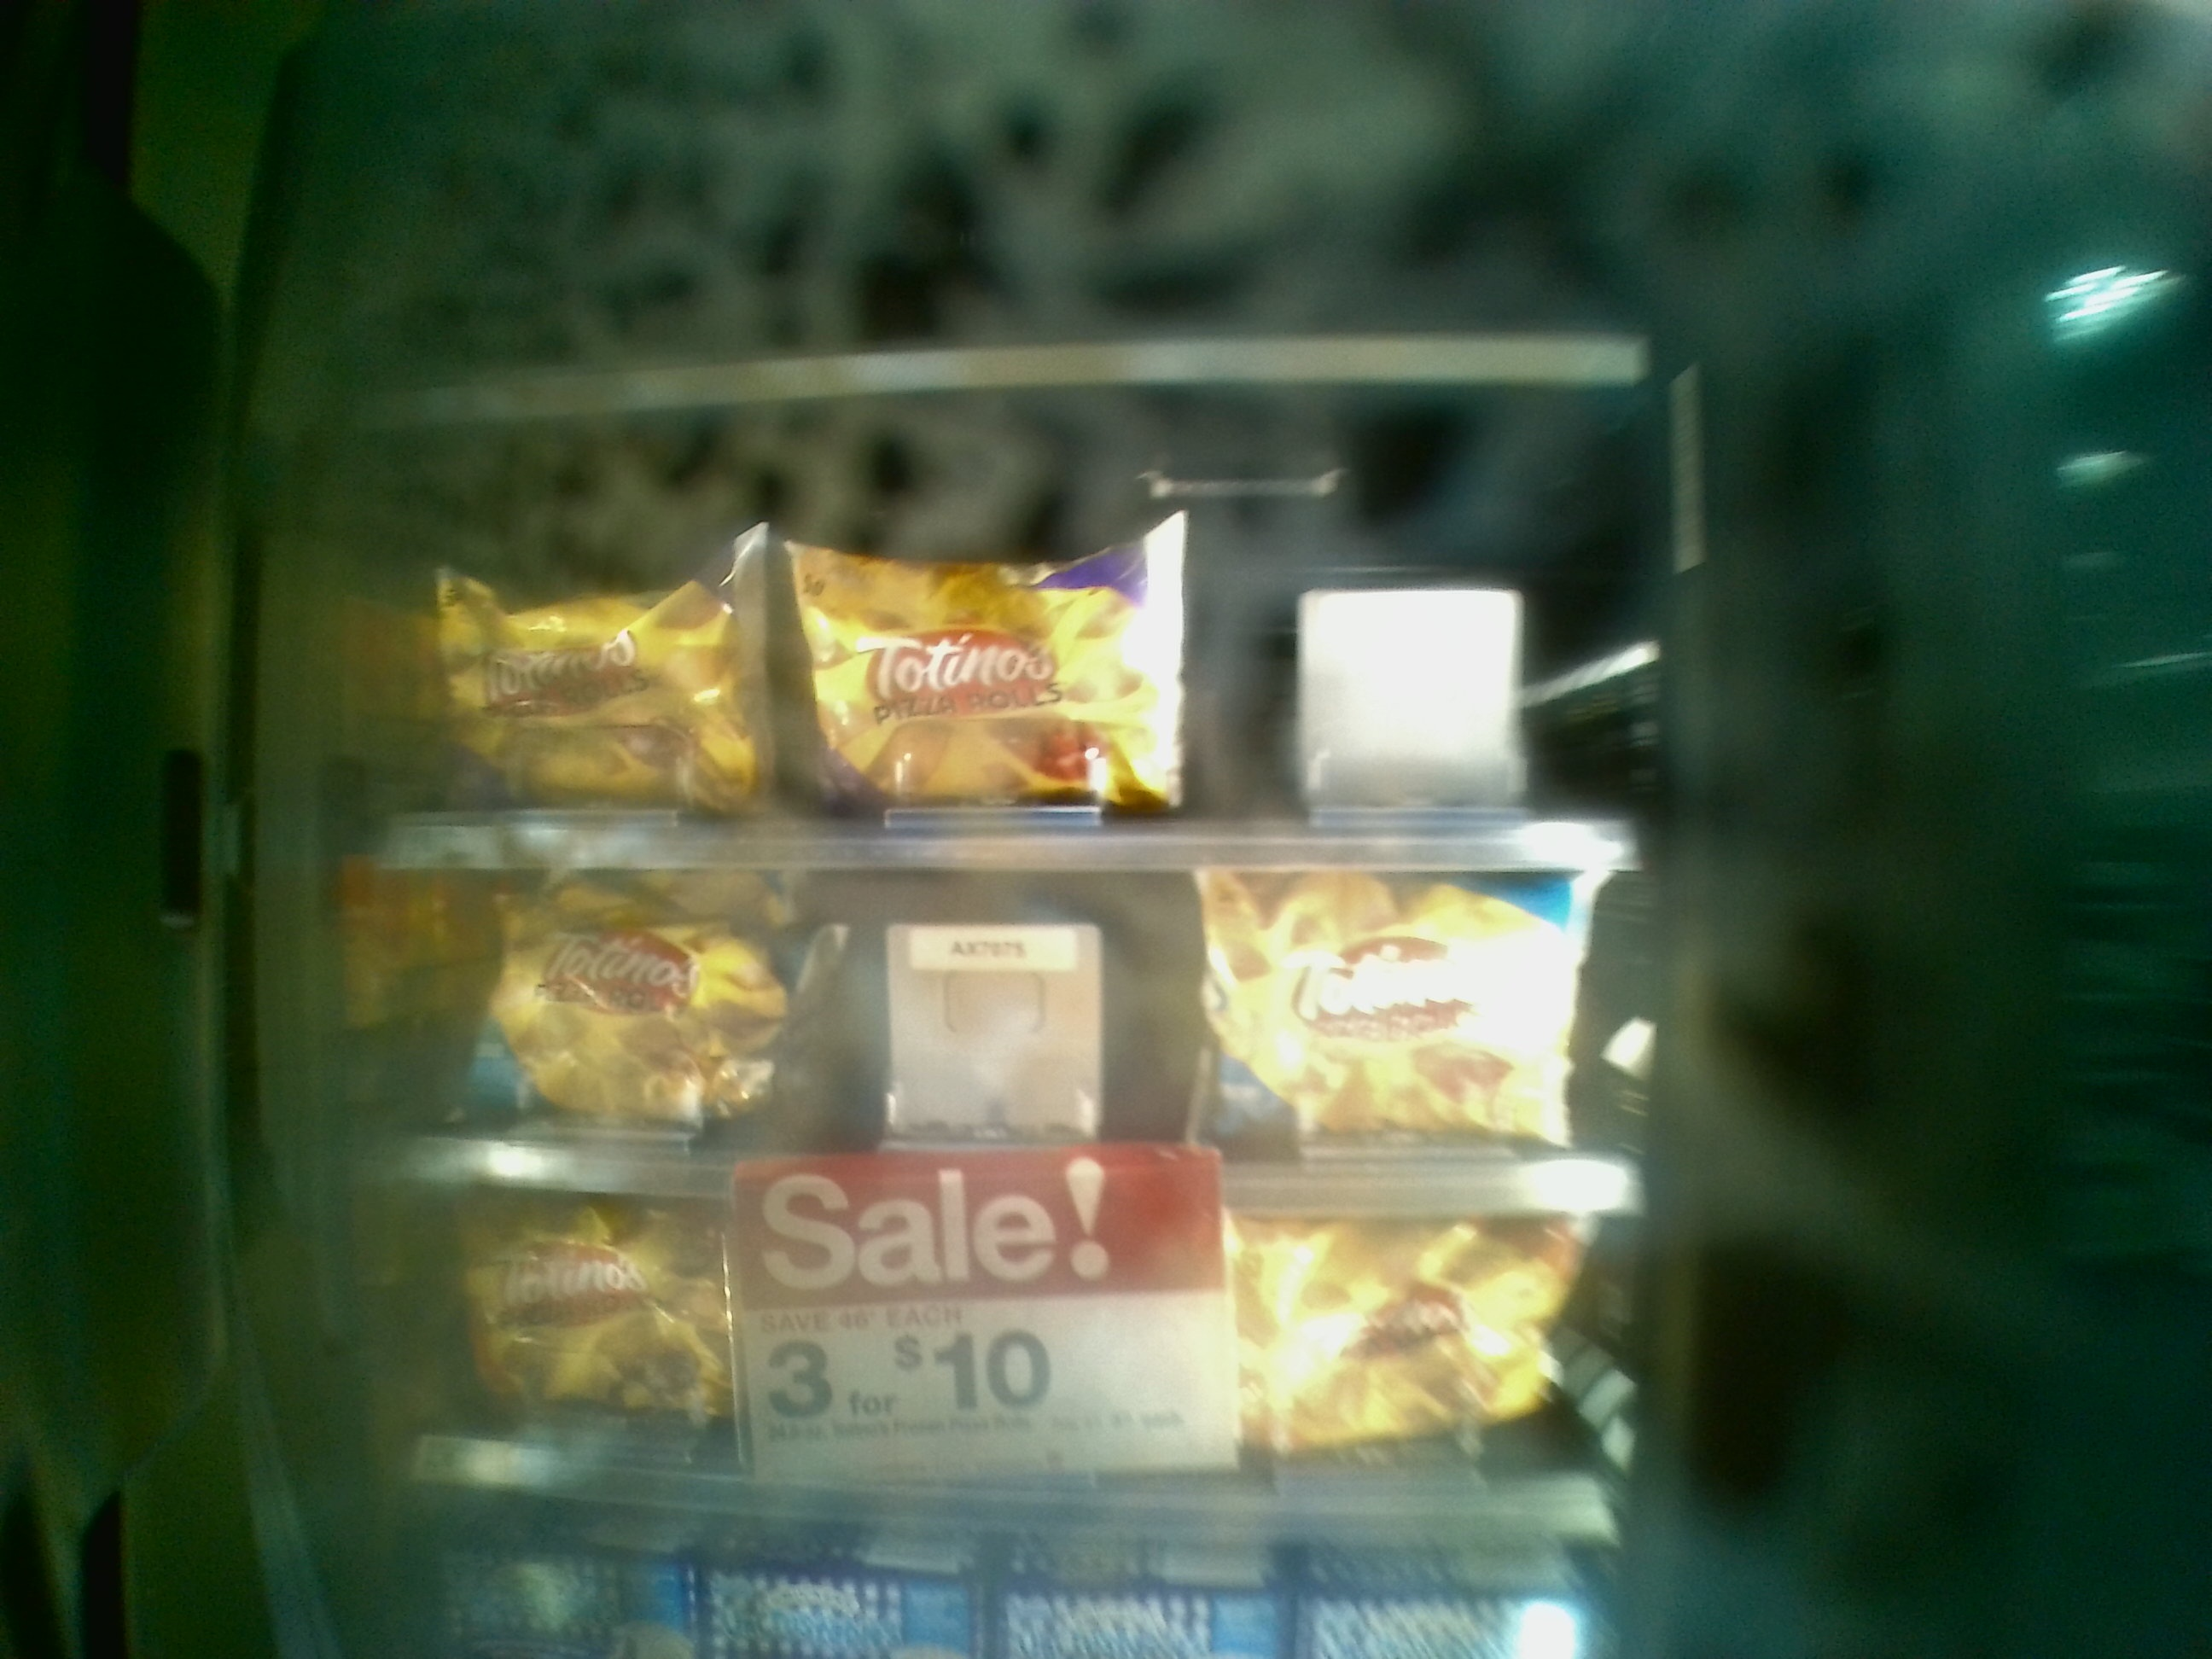shelf: (301, 389, 1672, 870), (308, 870, 1663, 1223), (314, 1208, 1641, 1551)
